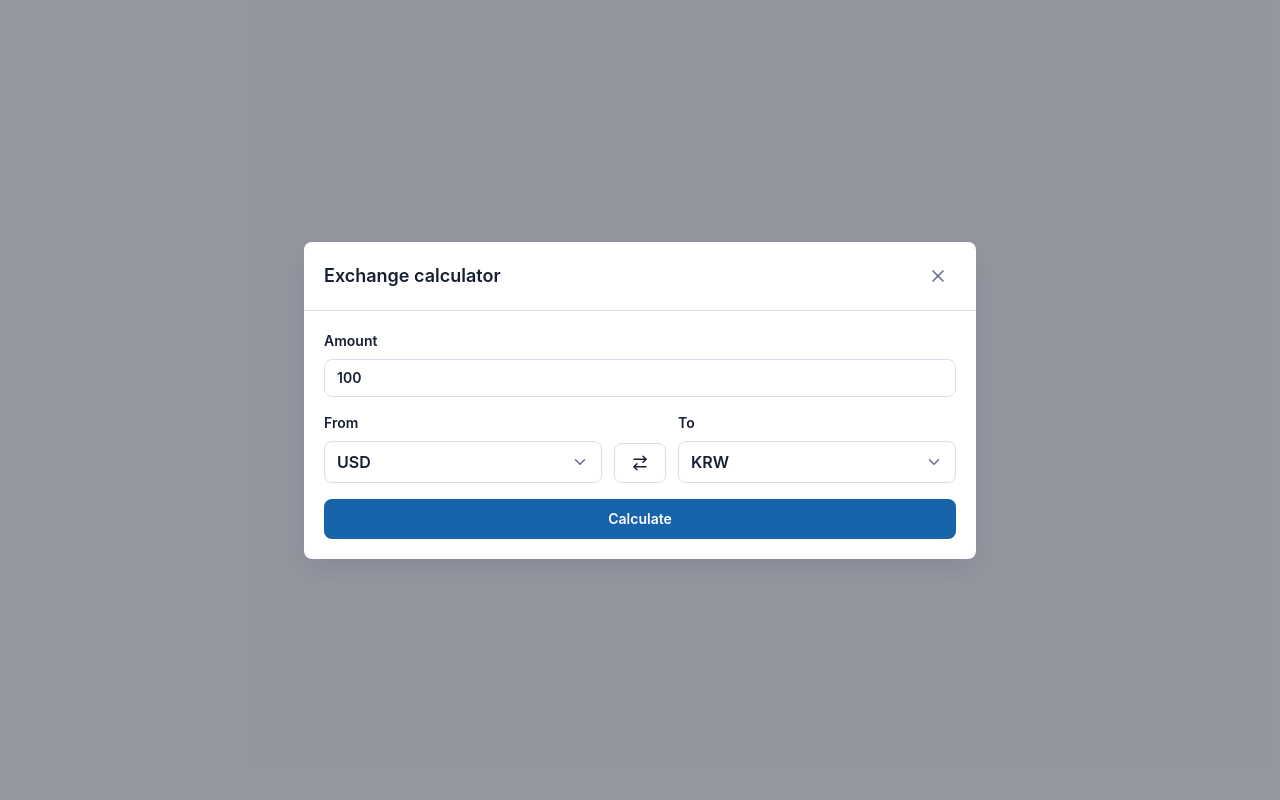
Scenario: ExchangeCalculatorModal › selects source and target currencies
The width and height of the screenshot is (1280, 800).
Click the button named "Swap currencies".
click(640, 462)  # box [614,442,666,482]
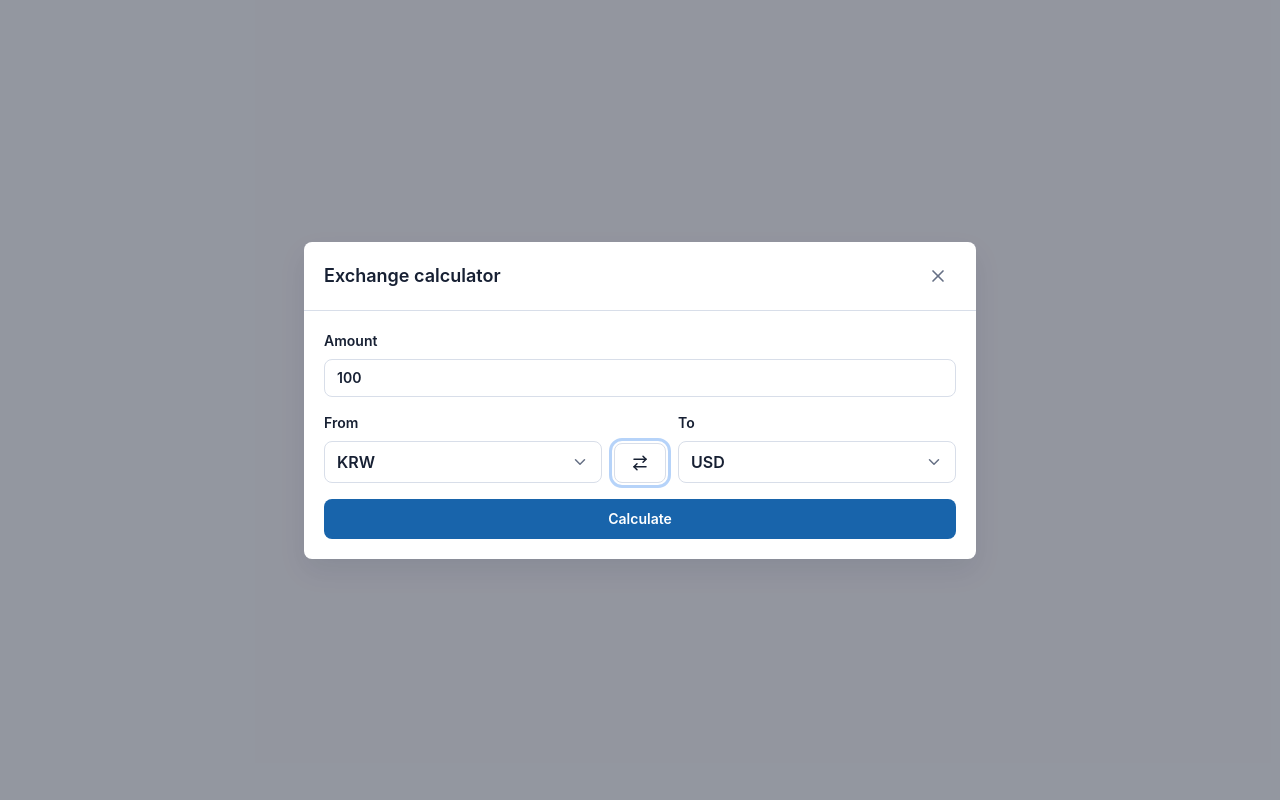
expect the text "KRW" is shown: met, box [337,450,375,474]
expect the text "USD" is shown: met, box [691,450,725,474]
